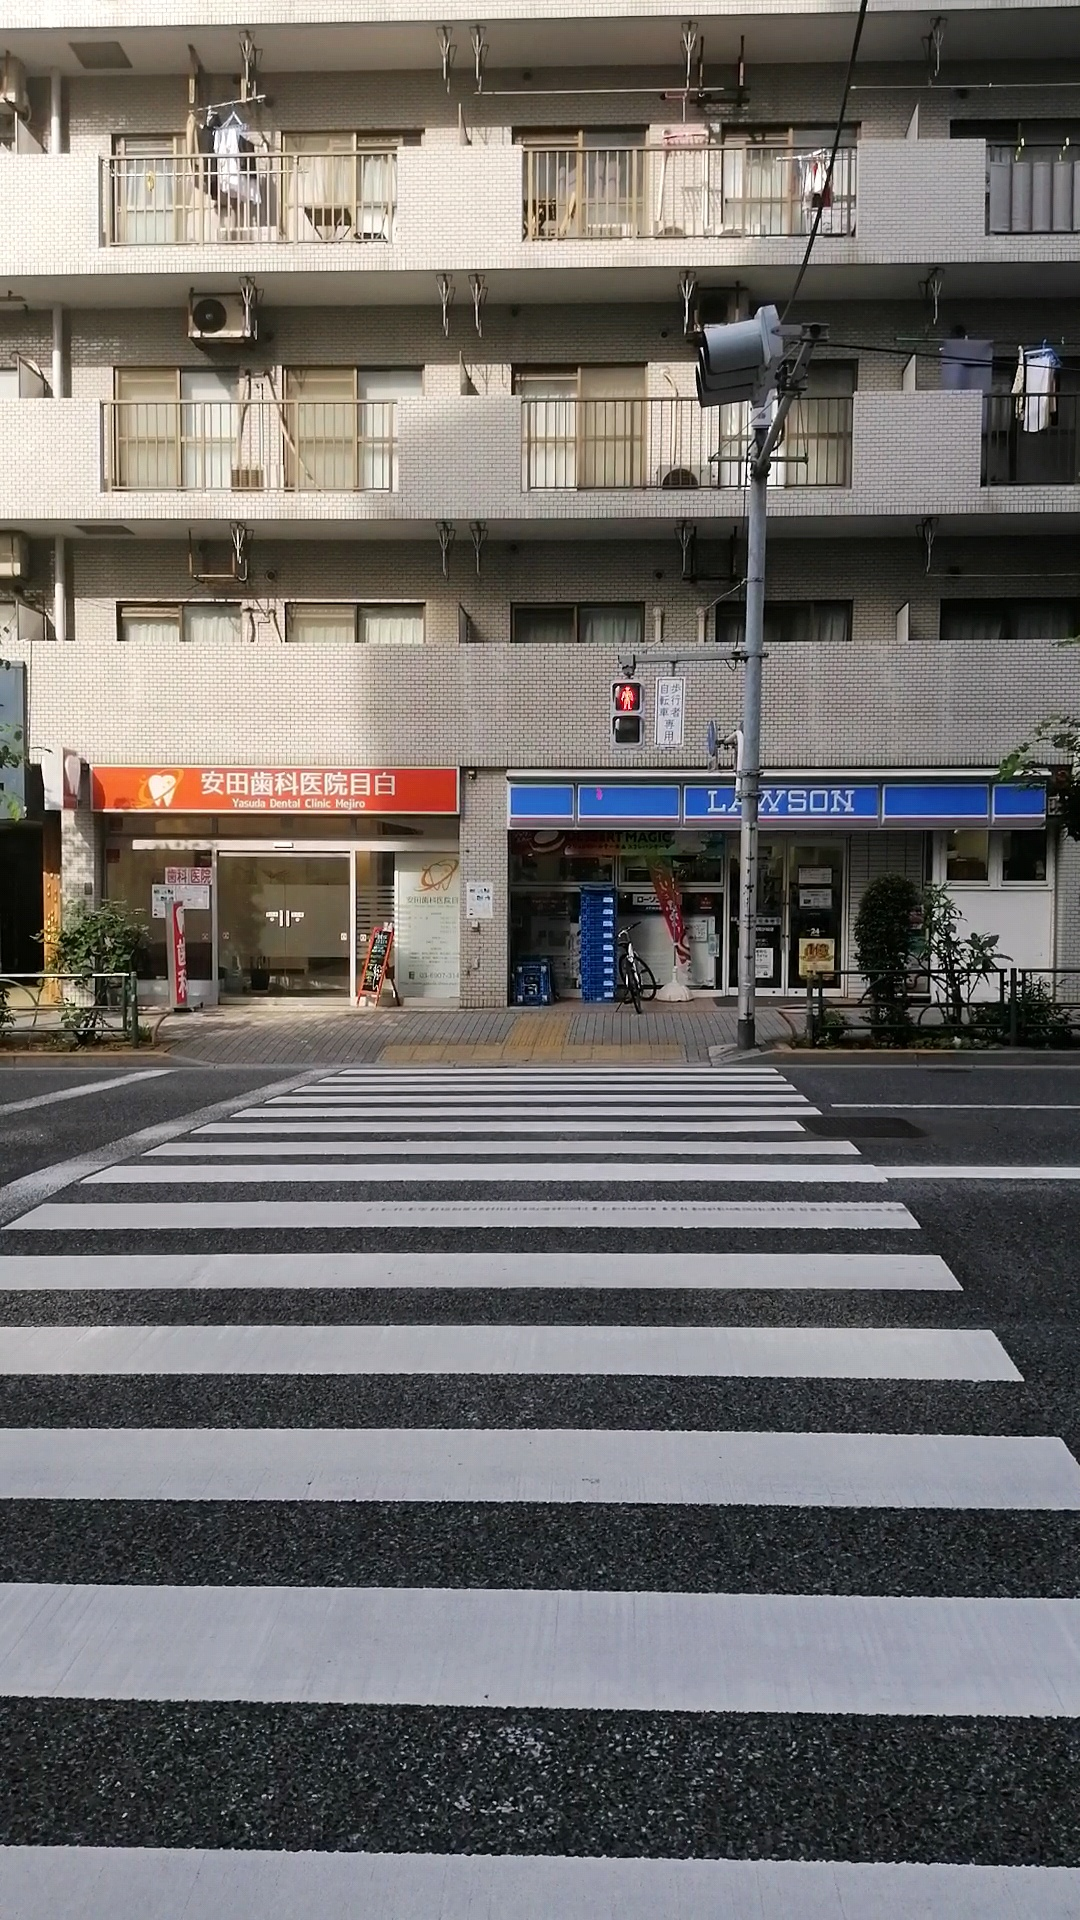red: (608, 679, 646, 748)
